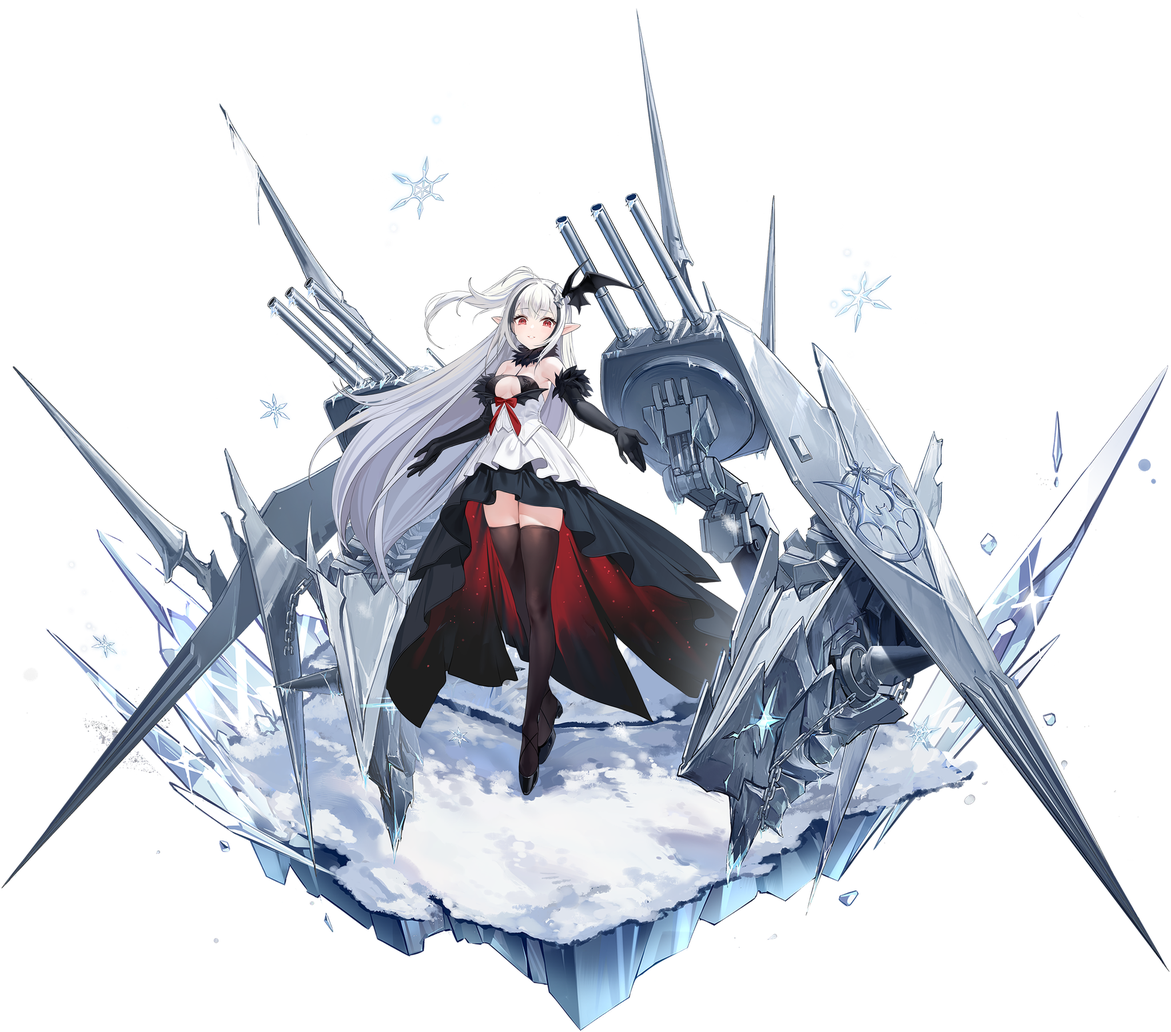person: (344, 217, 694, 836)
